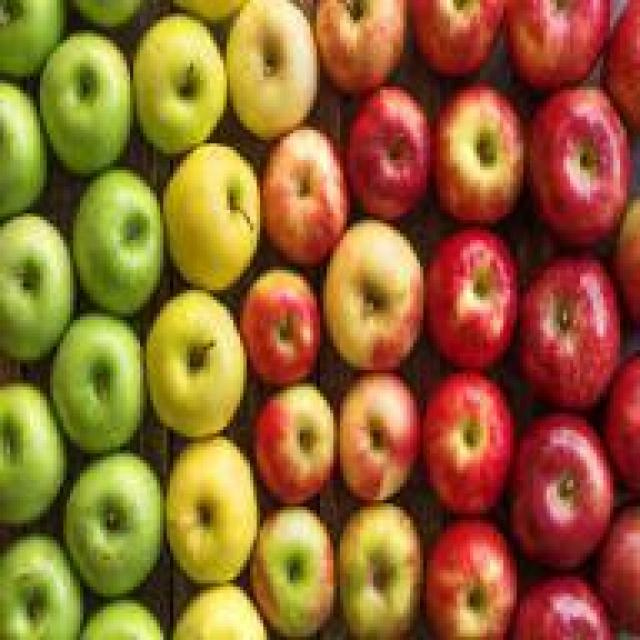apple: (146, 287, 246, 440), (527, 93, 633, 237), (324, 227, 424, 373), (333, 90, 437, 220), (167, 154, 263, 294), (516, 410, 606, 557), (70, 157, 160, 303), (434, 83, 524, 227), (427, 227, 523, 360), (60, 460, 160, 587), (520, 256, 610, 396), (166, 437, 256, 573), (40, 36, 130, 166), (333, 367, 420, 500), (267, 127, 350, 263), (426, 377, 516, 500), (226, 3, 316, 120), (423, 524, 517, 634), (53, 320, 137, 440), (250, 506, 333, 626), (340, 506, 423, 626), (246, 260, 326, 383), (140, 20, 223, 137), (253, 390, 337, 497), (3, 534, 84, 634), (413, 7, 500, 80), (520, 573, 603, 637)
